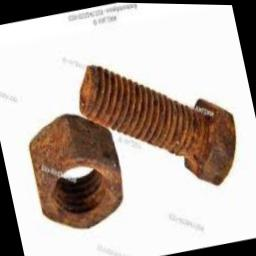Corroded-Bolt: (78, 64, 237, 184)
Corroded-Nut: (28, 112, 124, 229)
